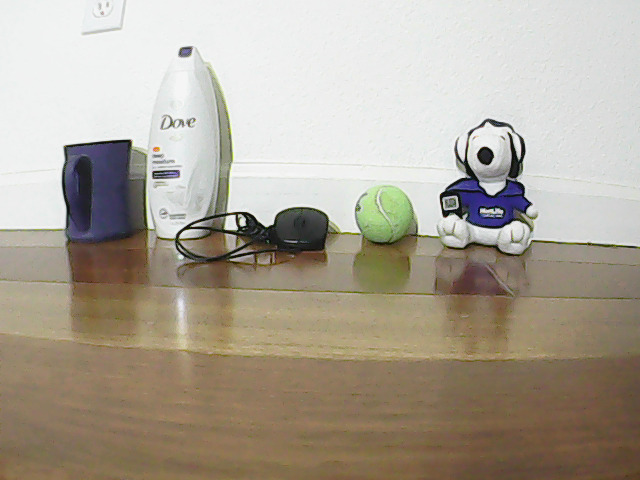ball: (345, 173, 413, 250)
mouse: (274, 187, 337, 255)
mug: (47, 125, 140, 247)
snoopy: (448, 114, 535, 253)
soap: (163, 40, 217, 240)
